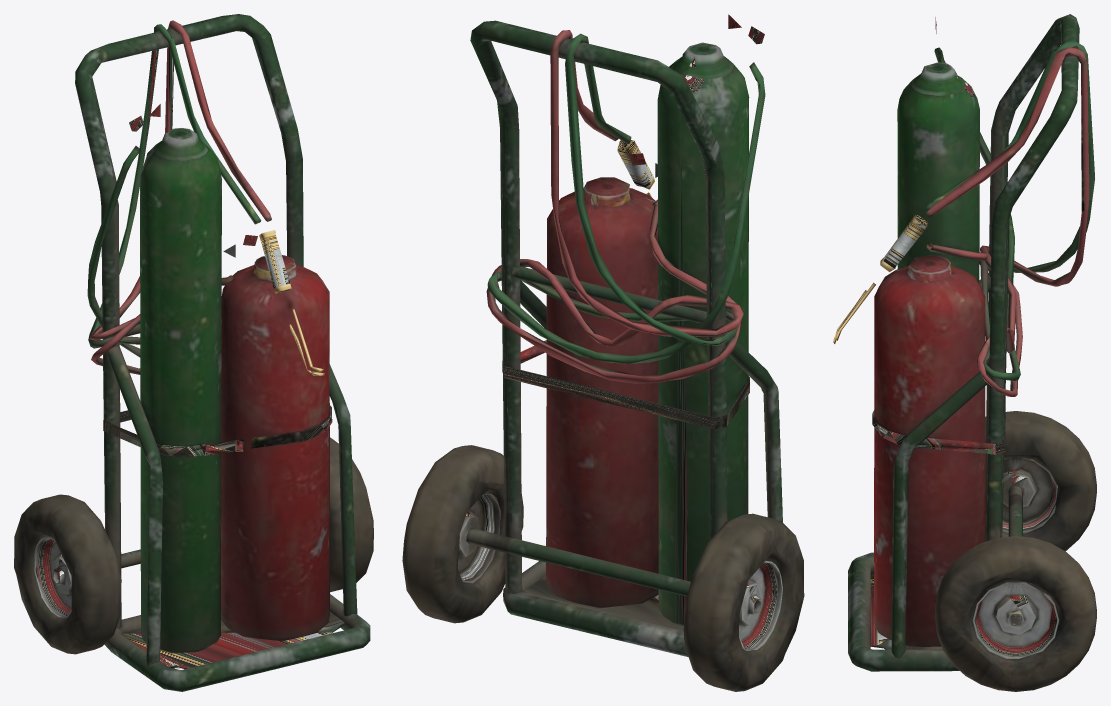
Rendered from portable_welding_cart.glb.
3 renders of one model, left to right at view 1: azimuth 30°, elevation 25°; view 2: azimuth 150°, elevation 25°; view 3: azimuth 270°, elevation 25°, orthographic. The views are drawn at different scales.
Parts seen in each view (by area): view 1: portable_welding_cart; view 2: portable_welding_cart; view 3: portable_welding_cart.
Boxes of the visible parts, x1=… form: portable_welding_cart: x1=14, y1=14, x2=373, y2=691; portable_welding_cart: x1=402, y1=14, x2=804, y2=691; portable_welding_cart: x1=833, y1=14, x2=1096, y2=691.
Bounding box in the file's own units: 0.8365 × 1.56 × 0.6423.
Materials: 2 (2 with a texture image).
